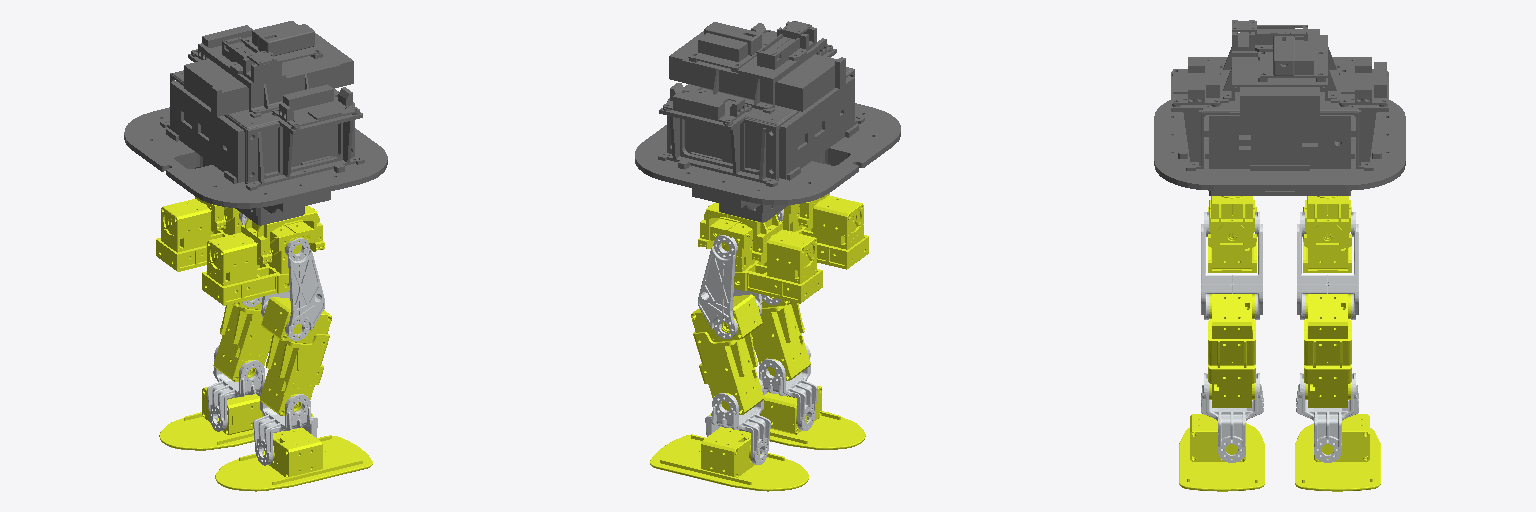
URDF robot description (exhx5_w_b_16):
<?xml version="1.0" encoding="utf-8"?>
<!-- This URDF was automatically created by SolidWorks to URDF Exporter! Originally created by [author] ([email redacted]) 
     Commit Version: 1.5.1-0-g916b5db  Build Version: 1.5.7152.31018
     For more information, please see http://wiki.ros.org/sw_urdf_exporter -->
<robot
  name="exhx5_w_b_16">
  <link
    name="body_link">
    <inertial>
      <origin
        xyz="0.00043545 0.00025536 0.10071"
        rpy="0 0 0" />
      <mass
        value="1.8238" />
      <inertia
        ixx="0.0025905"
        ixy="-5.6852E-06"
        ixz="-1.3106E-05"
        iyy="0.0024595"
        iyz="-1.261E-06"
        izz="0.0046407" />
    </inertial>
    <visual>
      <origin
        xyz="0 0 0"
        rpy="0 0 0" />
      <geometry>
        <mesh
          filename="../meshes/body_link.STL" />
      </geometry>
      <material
        name="">
        <color
          rgba="0.49804 0.49804 0.49804 1" />
      </material>
    </visual>
    <collision>
      <origin
        xyz="0 0 0"
        rpy="0 0 0" />
      <geometry>
        <mesh
          filename="../meshes/body_link.STL" />
      </geometry>
    </collision>
  </link>

  <link
    name="imu_link">
    <inertial>
      <origin
        xyz="-0.008387 1.336E-17 -0.0069463"
        rpy="0 0 0" />
      <mass
        value="0.0062931" />
      <inertia
        ixx="3.2242E-07"
        ixy="3.3527E-22"
        ixz="-6.9193E-08"
        iyy="9.2229E-07"
        iyz="-8.0392E-22"
        izz="1.1018E-06" />
    </inertial>
    <visual>
      <origin
        xyz="0 0 0"
        rpy="0 0 0" />
      <geometry>
        <mesh
          filename="../meshes/imu_link.STL" />
      </geometry>
      <material
        name="">
        <color
          rgba="0.79216 0.81961 0.93333 1" />
      </material>
    </visual>
    <collision>
      <origin
        xyz="0 0 0"
        rpy="0 0 0" />
      <geometry>
        <mesh
          filename="../meshes/imu_link.STL" />
      </geometry>
    </collision>
  </link>
  <joint
    name="imu"
    type="fixed">
    <origin
      xyz="0 0 0.0492"
      rpy="0 0 0" />
    <parent
      link="body_link" />
    <child
      link="imu_link" />
    <axis
      xyz="0 0 0" />
    <limit
      lower="-3.14"
      upper="3.14"
      effort="4"
      velocity="4" />
  </joint>
  <link
    name="l_hip_g_link">
    <inertial>
      <origin
        xyz="-0.0043797 -8.6604E-08 0.011813"
        rpy="0 0 0" />
      <mass
        value="0.061008" />
      <inertia
        ixx="1.167E-05"
        ixy="7.1767E-11"
        ixz="9.1442E-09"
        iyy="2.2342E-05"
        iyz="2.5177E-11"
        izz="2.4892E-05" />
    </inertial>
    <visual>
      <origin
        xyz="0 0 0"
        rpy="0 0 0" />
      <geometry>
        <mesh
          filename="../meshes/l_hip_g_link.STL" />
      </geometry>
      <material
        name="">
        <color
          rgba="0.9451 1 0.18431 1" />
      </material>
    </visual>
    <collision>
      <origin
        xyz="0 0 0"
        rpy="0 0 0" />
      <geometry>
        <mesh
          filename="../meshes/l_hip_g_link.STL" />
      </geometry>
    </collision>
  </link>
  <joint
    name="l_hip_g"
    type="fixed">
    <origin
      xyz=".002 0.04 0"
      rpy="0 0 0" />
    <parent
      link="body_link" />
    <child
      link="l_hip_g_link" />
    <axis
      xyz="0 0 0" />
  </joint>
  <link
    name="l_hip_roll_link">
    <inertial>
      <origin
        xyz="0.013831 0.00033457 0.025453"
        rpy="0 0 0" />
      <mass
        value="0.2969" />
      <inertia
        ixx="7.8136E-05"
        ixy="7.265E-07"
        ixz="-6.9809E-08"
        iyy="9.2183E-05"
        iyz="-5.6881E-11"
        izz="7.1034E-05" />
    </inertial>
    <visual>
      <origin
        xyz="0 0 0"
        rpy="0 0 0" />
      <geometry>
        <mesh
          filename="../meshes/l_hip_roll_link.STL" />
      </geometry>
      <material
        name="">
        <color
          rgba="0.9451 1 0.18431 1" />
      </material>
    </visual>
    <collision>
      <origin
        xyz="0 0 0"
        rpy="0 0 0" />
      <geometry>
        <mesh
          filename="../meshes/l_hip_roll_link.STL" />
      </geometry>
    </collision>
  </link>
  <joint
    name="l_hip_roll"
    type="revolute">
    <origin
      xyz="0 0 0"
      rpy="3.1416 1.5708 0" />
    <parent
      link="l_hip_g_link" />
    <child
      link="l_hip_roll_link" />
    <axis
      xyz="0 0 1" />
    <limit
      lower="-3.14"
      upper="3.14"
      effort="4"
      velocity="4" />
  </joint>
  <link
    name="l_hip_pitch_link">
    <inertial>
      <origin
        xyz="0.041225 -0.007321 -5.0713E-08"
        rpy="0 0 0" />
      <mass
        value="0.051592" />
      <inertia
        ixx="2.7959E-05"
        ixy="2.0752E-06"
        ixz="-8.0934E-11"
        iyy="4.8156E-05"
        iyz="3.6317E-11"
        izz="2.9604E-05" />
    </inertial>
    <visual>
      <origin
        xyz="0 0 0"
        rpy="0 0 0" />
      <geometry>
        <mesh
          filename="../meshes/l_hip_pitch_link.STL" />
      </geometry>
      <material
        name="">
        <color
          rgba="0.89804 0.91765 0.92941 1" />
      </material>
    </visual>
    <collision>
      <origin
        xyz="0 0 0"
        rpy="0 0 0" />
      <geometry>
        <mesh
          filename="../meshes/l_hip_pitch_link.STL" />
      </geometry>
    </collision>
  </link>
  <joint
    name="l_hip_pitch"
    type="revolute">
    <origin
      xyz="0 0 0"
      rpy="1.5708 0 0" />
    <parent
      link="l_hip_roll_link" />
    <child
      link="l_hip_pitch_link" />
    <axis
      xyz="0 0 1" />
    <limit
      lower="-3.14"
      upper="3.14"
      effort="4"
      velocity="4" />
  </joint>
  <link
    name="l_knee_link">
    <inertial>
      <origin
        xyz="0.033756 -0.0084189 -6.6115E-09"
        rpy="0 0 0" />
      <mass
        value="0.28878" />
      <inertia
        ixx="6.6724E-05"
        ixy="7.5004E-07"
        ixz="-8.4578E-07"
        iyy="6.5699E-05"
        iyz="4.1085E-07"
        izz="7.0381E-05" />
    </inertial>
    <visual>
      <origin
        xyz="0 0 0"
        rpy="0 0 0" />
      <geometry>
        <mesh
          filename="../meshes/l_knee_link.STL" />
      </geometry>
      <material
        name="">
        <color
          rgba="0.9451 1 0.18431 1" />
      </material>
    </visual>
    <collision>
      <origin
        xyz="0 0 0"
        rpy="0 0 0" />
      <geometry>
        <mesh
          filename="../meshes/l_knee_link.STL" />
      </geometry>
    </collision>
  </link>
  <joint
    name="l_knee"
    type="revolute">
    <origin
      xyz="0.075954 0 0"
      rpy="0 0 0" />
    <parent
      link="l_hip_pitch_link" />
    <child
      link="l_knee_link" />
    <axis
      xyz="0 0 1" />
    <limit
      lower="-3.14"
      upper="3.14"
      effort="4"
      velocity="4" />
  </joint>
  <link
    name="l_ank_pitch_link">
    <inertial>
      <origin
        xyz="0.022786 -7.3909E-09 -7.1981E-06"
        rpy="0 0 0" />
      <mass
        value="0.044772" />
      <inertia
        ixx="1.777E-05"
        ixy="8.555E-14"
        ixz="-3.3713E-09"
        iyy="1.7119E-05"
        iyz="1.7593E-11"
        izz="1.8661E-05" />
    </inertial>
    <visual>
      <origin
        xyz="0 0 0"
        rpy="0 0 0" />
      <geometry>
        <mesh
          filename="../meshes/l_ank_pitch_link.STL" />
      </geometry>
      <material
        name="">
        <color
          rgba="0.89804 0.91765 0.92941 1" />
      </material>
    </visual>
    <collision>
      <origin
        xyz="0 0 0"
        rpy="0 0 0" />
      <geometry>
        <mesh
          filename="../meshes/l_ank_pitch_link.STL" />
      </geometry>
    </collision>
  </link>
  <joint
    name="l_ank_pitch"
    type="revolute">
    <origin
      xyz="0.074602 0 0"
      rpy="3.1416 0 0" />
    <parent
      link="l_knee_link" />
    <child
      link="l_ank_pitch_link" />
    <axis
      xyz="0 0 1" />
    <limit
      lower="-3.14"
      upper="3.14"
      effort="4"
      velocity="4" />
  </joint>
  <link
    name="l_ank_roll_link">
    <inertial>
      <origin
        xyz="0.0047069 0.010728 0.0015299"
        rpy="0 0 0" />
      <mass
        value="0.16774" />
      <inertia
        ixx="0.00012039"
        ixy="-3.7428E-09"
        ixz="4.4069E-08"
        iyy="8.7735E-05"
        iyz="7.0469E-07"
        izz="4.7866E-05" />
    </inertial>
    <visual>
      <origin
        xyz="0 0 0"
        rpy="0 0 0" />
      <geometry>
        <mesh
          filename="../meshes/l_ank_roll_link.STL" />
      </geometry>
      <material
        name="">
        <color
          rgba="0.9451 1 0.18431 1" />
      </material>
    </visual>
    <collision>
      <origin
        xyz="0 0 0"
        rpy="0 0 0" />
      <geometry>
        <mesh
          filename="../meshes/l_ank_roll_link.STL" />
      </geometry>
    </collision>
  </link>
  <joint
    name="l_ank_roll"
    type="revolute">
    <origin
      xyz="0.0465 0 0"
      rpy="-1.5708 0 0" />
    <parent
      link="l_ank_pitch_link" />
    <child
      link="l_ank_roll_link" />
    <axis
      xyz="0 0 1" />
    <limit
      lower="-3.14"
      upper="3.14"
      effort="4"
      velocity="4" />
  </joint>
  <link
    name="r_hip_g_link">
    <inertial>
      <origin
        xyz="-0.0043797 -8.6604E-08 0.011813"
        rpy="0 0 0" />
      <mass
        value="0.061008" />
      <inertia
        ixx="1.167E-05"
        ixy="7.1767E-11"
        ixz="9.1442E-09"
        iyy="2.2342E-05"
        iyz="2.5177E-11"
        izz="2.4892E-05" />
    </inertial>
    <visual>
      <origin
        xyz="0 0 0"
        rpy="0 0 0" />
      <geometry>
        <mesh
          filename="../meshes/r_hip_g_link.STL" />
      </geometry>
      <material
        name="">
        <color
          rgba="0.9451 1 0.18431 1" />
      </material>
    </visual>
    <collision>
      <origin
        xyz="0 0 0"
        rpy="0 0 0" />
      <geometry>
        <mesh
          filename="../meshes/r_hip_g_link.STL" />
      </geometry>
    </collision>
  </link>
  <joint
    name="r_hip_g"
    type="fixed">
    <origin
      xyz=".002 -.04 0"
      rpy="0 0 0" />
    <parent
      link="body_link" />
    <child
      link="r_hip_g_link" />
    <axis
      xyz="0 0 0" />
  </joint>
  <link
    name="r_hip_roll_link">
    <inertial>
      <origin
        xyz="0.013831 0.00033457 0.025453"
        rpy="0 0 0" />
      <mass
        value="0.2969" />
      <inertia
        ixx="7.8136E-05"
        ixy="7.265E-07"
        ixz="-6.9809E-08"
        iyy="9.2183E-05"
        iyz="-5.6881E-11"
        izz="7.1034E-05" />
    </inertial>
    <visual>
      <origin
        xyz="0 0 0"
        rpy="0 0 0" />
      <geometry>
        <mesh
          filename="../meshes/r_hip_roll_link.STL" />
      </geometry>
      <material
        name="">
        <color
          rgba="0.9451 1 0.18431 1" />
      </material>
    </visual>
    <collision>
      <origin
        xyz="0 0 0"
        rpy="0 0 0" />
      <geometry>
        <mesh
          filename="../meshes/r_hip_roll_link.STL" />
      </geometry>
    </collision>
  </link>
  <joint
    name="r_hip_roll"
    type="revolute">
    <origin
      xyz="0 0 0"
      rpy="3.1416 1.5708 0" />
    <parent
      link="r_hip_g_link" />
    <child
      link="r_hip_roll_link" />
    <axis
      xyz="0 0 1" />
    <limit
      lower="-3.14"
      upper="3.14"
      effort="4"
      velocity="4" />
  </joint>
  <link
    name="r_hip_pitch_link">
    <inertial>
      <origin
        xyz="0.041225 0.007321 5.0713E-08"
        rpy="0 0 0" />
      <mass
        value="0.051592" />
      <inertia
        ixx="2.7959E-05"
        ixy="-2.0752E-06"
        ixz="8.0934E-11"
        iyy="4.8156E-05"
        iyz="3.6317E-11"
        izz="2.9604E-05" />
    </inertial>
    <visual>
      <origin
        xyz="0 0 0"
        rpy="0 0 0" />
      <geometry>
        <mesh
          filename="../meshes/r_hip_pitch_link.STL" />
      </geometry>
      <material
        name="">
        <color
          rgba="0.89804 0.91765 0.92941 1" />
      </material>
    </visual>
    <collision>
      <origin
        xyz="0 0 0"
        rpy="0 0 0" />
      <geometry>
        <mesh
          filename="../meshes/r_hip_pitch_link.STL" />
      </geometry>
    </collision>
  </link>
  <joint
    name="r_hip_pitch"
    type="revolute">
    <origin
      xyz="0 0 0"
      rpy="-1.5708 0 0" />
    <parent
      link="r_hip_roll_link" />
    <child
      link="r_hip_pitch_link" />
    <axis
      xyz="0 0 1" />
    <limit
      lower="-3.14"
      upper="3.14"
      effort="4"
      velocity="4" />
  </joint>
  <link
    name="r_knee_link">
    <inertial>
      <origin
        xyz="0.033757 0.0084176 6.6115E-09"
        rpy="0 0 0" />
      <mass
        value="0.28878" />
      <inertia
        ixx="6.6724E-05"
        ixy="-7.5008E-07"
        ixz="8.458E-07"
        iyy="6.5699E-05"
        iyz="4.1081E-07"
        izz="7.0381E-05" />
    </inertial>
    <visual>
      <origin
        xyz="0 0 0"
        rpy="0 0 0" />
      <geometry>
        <mesh
          filename="../meshes/r_knee_link.STL" />
      </geometry>
      <material
        name="">
        <color
          rgba="0.9451 1 0.18431 1" />
      </material>
    </visual>
    <collision>
      <origin
        xyz="0 0 0"
        rpy="0 0 0" />
      <geometry>
        <mesh
          filename="../meshes/r_knee_link.STL" />
      </geometry>
    </collision>
  </link>
  <joint
    name="r_knee"
    type="revolute">
    <origin
      xyz="0.075954 0 0"
      rpy="0 0 0" />
    <parent
      link="r_hip_pitch_link" />
    <child
      link="r_knee_link" />
    <axis
      xyz="0 0 1" />
    <limit
      lower="-3.14"
      upper="3.14"
      effort="4"
      velocity="4" />
  </joint>
  <link
    name="r_ank_pitch_link">
    <inertial>
      <origin
        xyz="0.025786 -7.3887E-09 -7.1981E-06"
        rpy="0 0 0" />
      <mass
        value="0.044772" />
      <inertia
        ixx="1.777E-05"
        ixy="8.5434E-14"
        ixz="-3.3713E-09"
        iyy="1.7119E-05"
        iyz="1.7592E-11"
        izz="1.8661E-05" />
    </inertial>
    <visual>
      <origin
        xyz="0 0 0"
        rpy="0 0 0" />
      <geometry>
        <mesh
          filename="../meshes/r_ank_pitch_link.STL" />
      </geometry>
      <material
        name="">
        <color
          rgba="0.89804 0.91765 0.92941 1" />
      </material>
    </visual>
    <collision>
      <origin
        xyz="0 0 0"
        rpy="0 0 0" />
      <geometry>
        <mesh
          filename="../meshes/r_ank_pitch_link.STL" />
      </geometry>
    </collision>
  </link>
  <joint
    name="r_ank_pitch"
    type="revolute">
    <origin
      xyz="0.071602 0 0"
      rpy="3.1416 0 0" />
    <parent
      link="r_knee_link" />
    <child
      link="r_ank_pitch_link" />
    <axis
      xyz="0 0 1" />
    <limit
      lower="-3.14"
      upper="3.14"
      effort="4"
      velocity="4" />
  </joint>
  <link
    name="r_ank_roll_link">
    <inertial>
      <origin
        xyz="0.0077069 -0.010728 0.0015299"
        rpy="0 0 0" />
      <mass
        value="0.16774" />
      <inertia
        ixx="0.00012039"
        ixy="3.743E-09"
        ixz="4.407E-08"
        iyy="8.7735E-05"
        iyz="-7.0467E-07"
        izz="4.7866E-05" />
    </inertial>
    <visual>
      <origin
        xyz="0 0 0"
        rpy="0 0 0" />
      <geometry>
        <mesh
          filename="../meshes/r_ank_roll_link.STL" />
      </geometry>
      <material
        name="">
        <color
          rgba="0.9451 1 0.18431 1" />
      </material>
    </visual>
    <collision>
      <origin
        xyz="0 0 0"
        rpy="0 0 0" />
      <geometry>
        <mesh
          filename="../meshes/r_ank_roll_link.STL" />
      </geometry>
    </collision>
  </link>
  <joint
    name="r_ank_roll"
    type="revolute">
    <origin
      xyz="0.0465 0 0"
      rpy="1.5708 0 0" />
    <parent
      link="r_ank_pitch_link" />
    <child
      link="r_ank_roll_link" />
    <axis
      xyz="0 0 1" />
    <limit
      lower="-3.14"
      upper="3.14"
      effort="4"
      velocity="4" />
  </joint>
  <transmission name="r_hip_roll_tran">
    <type>transmission_interface/SimpleTransmission</type>
    <joint name="r_hip_roll">
      <hardwareInterface>hardware_interface/EffortJointInterface</hardwareInterface>
    </joint>
    <actuator name="r_hip_roll_motor">
      <hardwareInterface>hardware_interface/EffortJointInterface</hardwareInterface>
      <mechanicalReduction>1</mechanicalReduction>
    </actuator>
  </transmission>
  <transmission name="r_hip_pitch_tran">
    <type>transmission_interface/SimpleTransmission</type>
    <joint name="r_hip_pitch">
      <hardwareInterface>hardware_interface/EffortJointInterface</hardwareInterface>
    </joint>
    <actuator name="r_hip_pitch_motor">
      <hardwareInterface>hardware_interface/EffortJointInterface</hardwareInterface>
      <mechanicalReduction>1</mechanicalReduction>
    </actuator>
  </transmission>
  <transmission name="r_knee_tran">
    <type>transmission_interface/SimpleTransmission</type>
    <joint name="r_knee">
      <hardwareInterface>hardware_interface/EffortJointInterface</hardwareInterface>
    </joint>
    <actuator name="r_knee_motor">
      <hardwareInterface>hardware_interface/EffortJointInterface</hardwareInterface>
      <mechanicalReduction>1</mechanicalReduction>
    </actuator>
  </transmission>
  <transmission name="r_ank_pitch_tran">
    <type>transmission_interface/SimpleTransmission</type>
    <joint name="r_ank_pitch">
      <hardwareInterface>hardware_interface/EffortJointInterface</hardwareInterface>
    </joint>
    <actuator name="r_ank_pitch_motor">
      <hardwareInterface>hardware_interface/EffortJointInterface</hardwareInterface>
      <mechanicalReduction>1</mechanicalReduction>
    </actuator>
  </transmission>
  <transmission name="r_ank_roll_tran">
    <type>transmission_interface/SimpleTransmission</type>
    <joint name="r_ank_roll">
      <hardwareInterface>hardware_interface/EffortJointInterface</hardwareInterface>
    </joint>
    <actuator name="r_ank_roll_motor">
      <hardwareInterface>hardware_interface/EffortJointInterface</hardwareInterface>
      <mechanicalReduction>1</mechanicalReduction>
    </actuator>
  </transmission>
  <transmission name="l_hip_roll_tran">
    <type>transmission_interface/SimpleTransmission</type>
    <joint name="l_hip_roll">
      <hardwareInterface>hardware_interface/EffortJointInterface</hardwareInterface>
    </joint>
    <actuator name="l_hip_roll_motor">
      <hardwareInterface>hardware_interface/EffortJointInterface</hardwareInterface>
      <mechanicalReduction>1</mechanicalReduction>
    </actuator>
  </transmission>
  <transmission name="l_hip_pitch_tran">
    <type>transmission_interface/SimpleTransmission</type>
    <joint name="l_hip_pitch">
      <hardwareInterface>hardware_interface/EffortJointInterface</hardwareInterface>
    </joint>
    <actuator name="l_hip_pitch_motor">
      <hardwareInterface>hardware_interface/EffortJointInterface</hardwareInterface>
      <mechanicalReduction>1</mechanicalReduction>
    </actuator>
  </transmission>
  <transmission name="l_knee_tran">
    <type>transmission_interface/SimpleTransmission</type>
    <joint name="l_knee">
      <hardwareInterface>hardware_interface/EffortJointInterface</hardwareInterface>
    </joint>
    <actuator name="l_knee_motor">
      <hardwareInterface>hardware_interface/EffortJointInterface</hardwareInterface>
      <mechanicalReduction>1</mechanicalReduction>
    </actuator>
  </transmission>
  <transmission name="l_ank_pitch_tran">
    <type>transmission_interface/SimpleTransmission</type>
    <joint name="l_ank_pitch">
      <hardwareInterface>hardware_interface/EffortJointInterface</hardwareInterface>
    </joint>
    <actuator name="l_ank_pitch_motor">
      <hardwareInterface>hardware_interface/EffortJointInterface</hardwareInterface>
      <mechanicalReduction>1</mechanicalReduction>
    </actuator>
  </transmission>
  <transmission name="l_ank_roll_tran">
    <type>transmission_interface/SimpleTransmission</type>
    <joint name="l_ank_roll">
      <hardwareInterface>hardware_interface/EffortJointInterface</hardwareInterface>
    </joint>
    <actuator name="l_ank_roll_motor">
      <hardwareInterface>hardware_interface/EffortJointInterface</hardwareInterface>
      <mechanicalReduction>1</mechanicalReduction>
    </actuator>
  </transmission>
</robot>

--- What the picture shows (computed from the rendered views, not written in the file) ---
3 views of the same robot in one strip: view 1: azimuth 30°, elevation 25°; view 2: azimuth 150°, elevation 25°; view 3: azimuth 270°, elevation 25° (orthographic).
Model exhx5_w_b_16 with 14 links and 13 joints (10 revolute, 3 fixed), rooted at body_link, posed every joint at zero.
Links seen in each view (by area): view 1: body_link, r_ank_roll_link, r_hip_roll_link, r_knee_link, l_hip_roll_link, l_ank_roll_link, l_knee_link, r_hip_pitch_link, r_ank_pitch_link, l_ank_pitch_link, r_hip_g_link; view 2: body_link, l_ank_roll_link, l_hip_roll_link, l_knee_link, r_hip_roll_link, r_ank_roll_link, r_knee_link, l_hip_pitch_link, l_ank_pitch_link, r_ank_pitch_link, l_hip_g_link; view 3: body_link, l_knee_link, r_knee_link, l_ank_roll_link, r_ank_roll_link, l_hip_pitch_link, r_hip_pitch_link, r_hip_g_link, l_hip_g_link, l_ank_pitch_link, r_ank_pitch_link, l_hip_roll_link (+1 smaller).
Link boxes in pixels (bbox=[...]): body_link: bbox=[124, 21, 387, 225]; r_ank_roll_link: bbox=[215, 427, 372, 491]; r_hip_roll_link: bbox=[202, 220, 313, 305]; r_knee_link: bbox=[260, 297, 331, 415]; l_hip_roll_link: bbox=[156, 199, 241, 271]; l_ank_roll_link: bbox=[159, 387, 313, 450]; l_knee_link: bbox=[213, 299, 272, 381]; r_hip_pitch_link: bbox=[261, 238, 324, 340]; r_ank_pitch_link: bbox=[253, 379, 317, 465]; l_ank_pitch_link: bbox=[207, 346, 264, 431]; r_hip_g_link: bbox=[241, 206, 324, 264]; body_link: bbox=[635, 21, 900, 222]; l_ank_roll_link: bbox=[650, 427, 808, 491]; l_hip_roll_link: bbox=[710, 217, 822, 303]; l_knee_link: bbox=[691, 294, 763, 414]; r_hip_roll_link: bbox=[782, 195, 868, 269]; r_ank_roll_link: bbox=[709, 386, 865, 449]; r_knee_link: bbox=[751, 296, 810, 380]; l_hip_pitch_link: bbox=[698, 235, 762, 338]; l_ank_pitch_link: bbox=[705, 378, 770, 464]; r_ank_pitch_link: bbox=[759, 344, 817, 430]; l_hip_g_link: bbox=[698, 202, 782, 262]; body_link: bbox=[1154, 20, 1405, 195]; l_knee_link: bbox=[1304, 294, 1351, 407]; r_knee_link: bbox=[1208, 294, 1255, 407]; l_ank_roll_link: bbox=[1295, 414, 1380, 491]; r_ank_roll_link: bbox=[1179, 414, 1264, 491]; l_hip_pitch_link: bbox=[1297, 212, 1358, 319]; r_hip_pitch_link: bbox=[1201, 212, 1262, 319]; r_hip_g_link: bbox=[1208, 196, 1256, 247]; l_hip_g_link: bbox=[1303, 196, 1351, 247]; l_ank_pitch_link: bbox=[1296, 373, 1358, 462]; r_ank_pitch_link: bbox=[1201, 373, 1263, 462]; l_hip_roll_link: bbox=[1303, 200, 1351, 272].
Size in the robot's own frame: 0.185 by 0.21 by 0.3893 metres.
14 mesh visuals loaded from 14 distinct referenced files (14 binary STL).